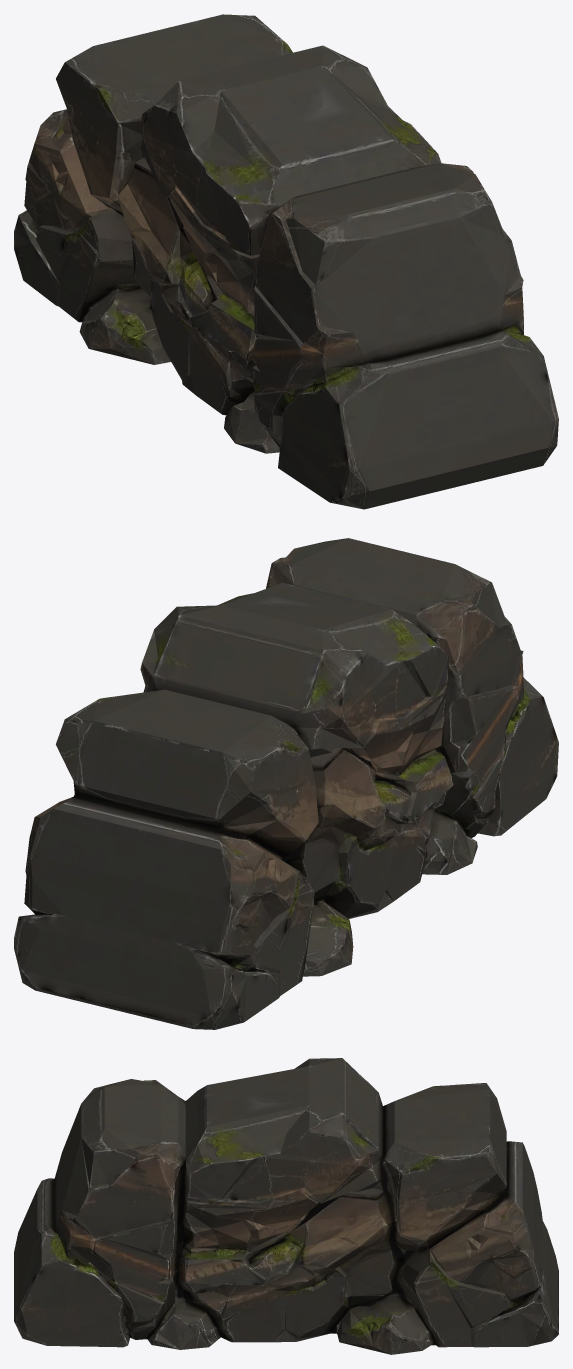
Rendered from rocks_large_LOD0.glb.
3 renders of one model, top to bottom at view 1: azimuth 30°, elevation 25°; view 2: azimuth 150°, elevation 25°; view 3: azimuth 270°, elevation 25°, orthographic. The views are drawn at different scales.
Visible parts, largest first — view 1: rocks_large_LOD0; view 2: rocks_large_LOD0; view 3: rocks_large_LOD0.
Part boxes in pixels (x1,y1,x2,y2): rocks_large_LOD0: [14, 14, 558, 509]; rocks_large_LOD0: [14, 538, 558, 1029]; rocks_large_LOD0: [14, 1058, 558, 1354].
Size of the model in its own units: 0.4403 by 0.4422 by 0.9999.
1 material, 1 textured.
